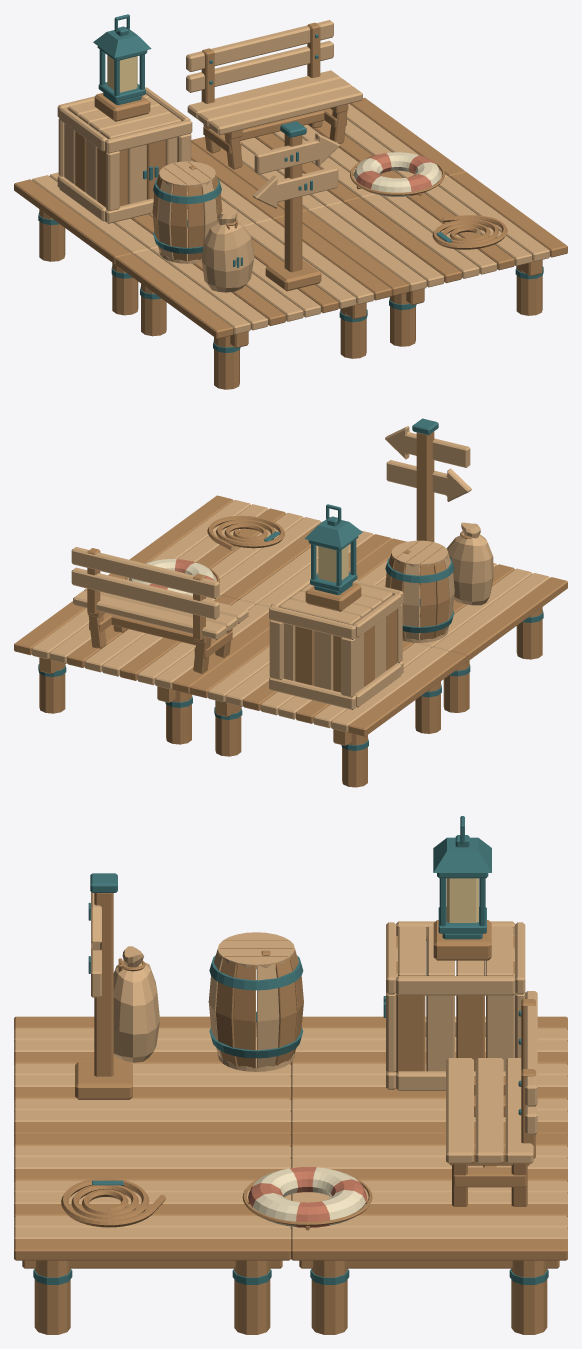
3 renders of one model, top to bottom at view 1: azimuth 30°, elevation 25°; view 2: azimuth 150°, elevation 25°; view 3: azimuth 270°, elevation 25°, orthographic. The views are drawn at different scales.
Parts seen in each view (by area): view 1: dock_SE, dock_SW, bench, crate, dock_NW, dock_NE, sign, barrel, lantern_on_crate, cargo_sack, lifebuoy_flat, rope_coil; view 2: dock_NW, crate, dock_NE, bench, dock_SE, dock_SW, barrel, sign, lantern_on_crate, cargo_sack, rope_coil, lifebuoy_flat; view 3: dock_SE, dock_NE, dock_SW, crate, dock_NW, bench, barrel, lantern_on_crate, sign, lifebuoy_flat, cargo_sack, rope_coil.
Boxes of the visible parts, <box> form: dock_SE: <box>302,172,567,346</box>; dock_SW: <box>115,216,391,389</box>; bench: <box>186,20,362,169</box>; crate: <box>57,87,192,223</box>; dock_NW: <box>14,142,284,315</box>; dock_NE: <box>191,97,465,211</box>; sign: <box>253,121,339,291</box>; barrel: <box>152,161,222,263</box>; lantern_on_crate: <box>93,14,151,121</box>; cargo_sack: <box>202,208,254,292</box>; lifebuoy_flat: <box>350,152,445,196</box>; rope_coil: <box>432,215,507,249</box>; dock_NW: <box>190,629,466,787</box>; crate: <box>269,572,403,709</box>; dock_NE: <box>14,573,269,744</box>; bench: <box>71,547,248,673</box>; dock_SE: <box>129,495,391,607</box>; dock_SW: <box>348,538,567,712</box>; barrel: <box>385,540,454,642</box>; sign: <box>385,418,471,585</box>; lantern_on_crate: <box>304,504,362,611</box>; cargo_sack: <box>446,522,493,605</box>; rope_coil: <box>207,515,284,550</box>; lifebuoy_flat: <box>125,559,219,595</box>; dock_SE: <box>14,1133,290,1334</box>; dock_NE: <box>291,1133,567,1334</box>; dock_SW: <box>14,1016,290,1134</box>; crate: <box>383,921,525,1090</box>; dock_NW: <box>291,1016,567,1134</box>; bench: <box>446,991,537,1206</box>; barrel: <box>208,932,303,1071</box>; lantern_on_crate: <box>433,816,491,960</box>; sign: <box>75,873,132,1099</box>; lifebuoy_flat: <box>242,1167,372,1230</box>; cargo_sack: <box>113,946,159,1062</box>; rope_coil: <box>61,1178,165,1227</box>.
Size of the model in its own units: 4 by 2.68 by 4.
